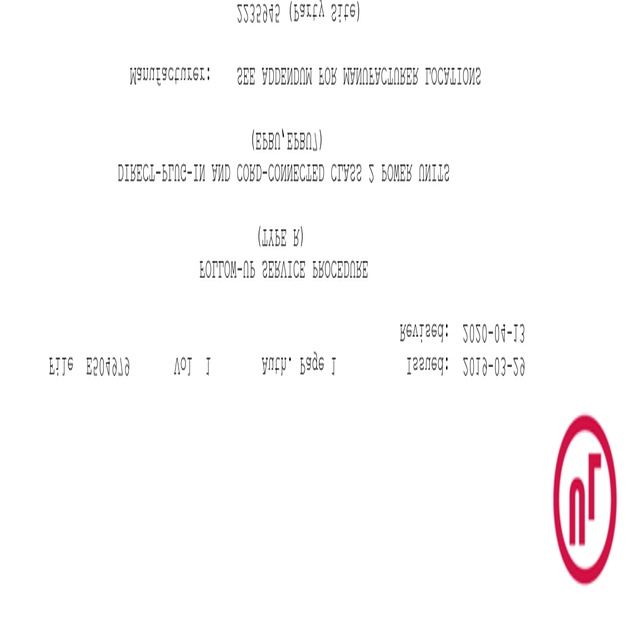ul: (552, 413, 618, 586)
